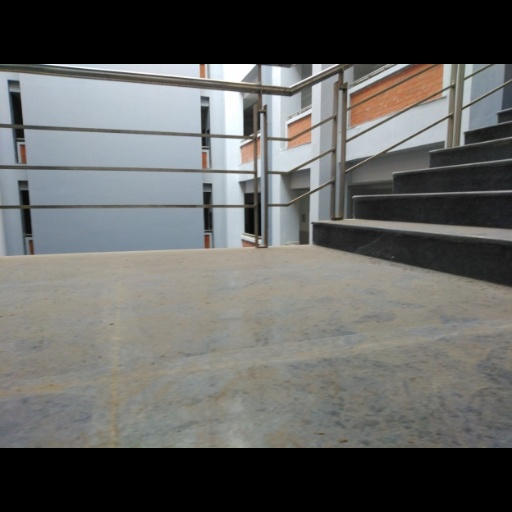Stairs: (314, 108, 512, 285)
